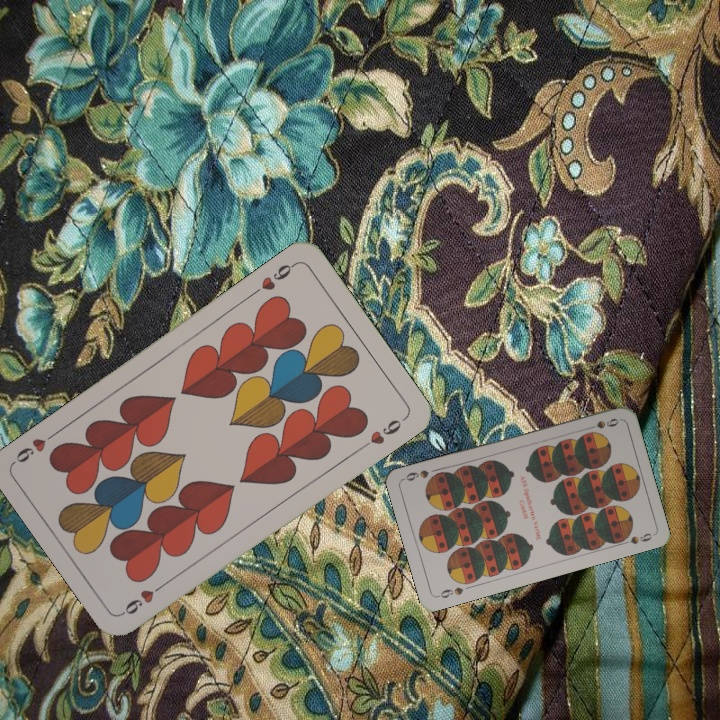H9: (118, 578, 170, 618), (248, 258, 299, 298)
S9: (581, 414, 621, 433), (433, 583, 466, 601)
